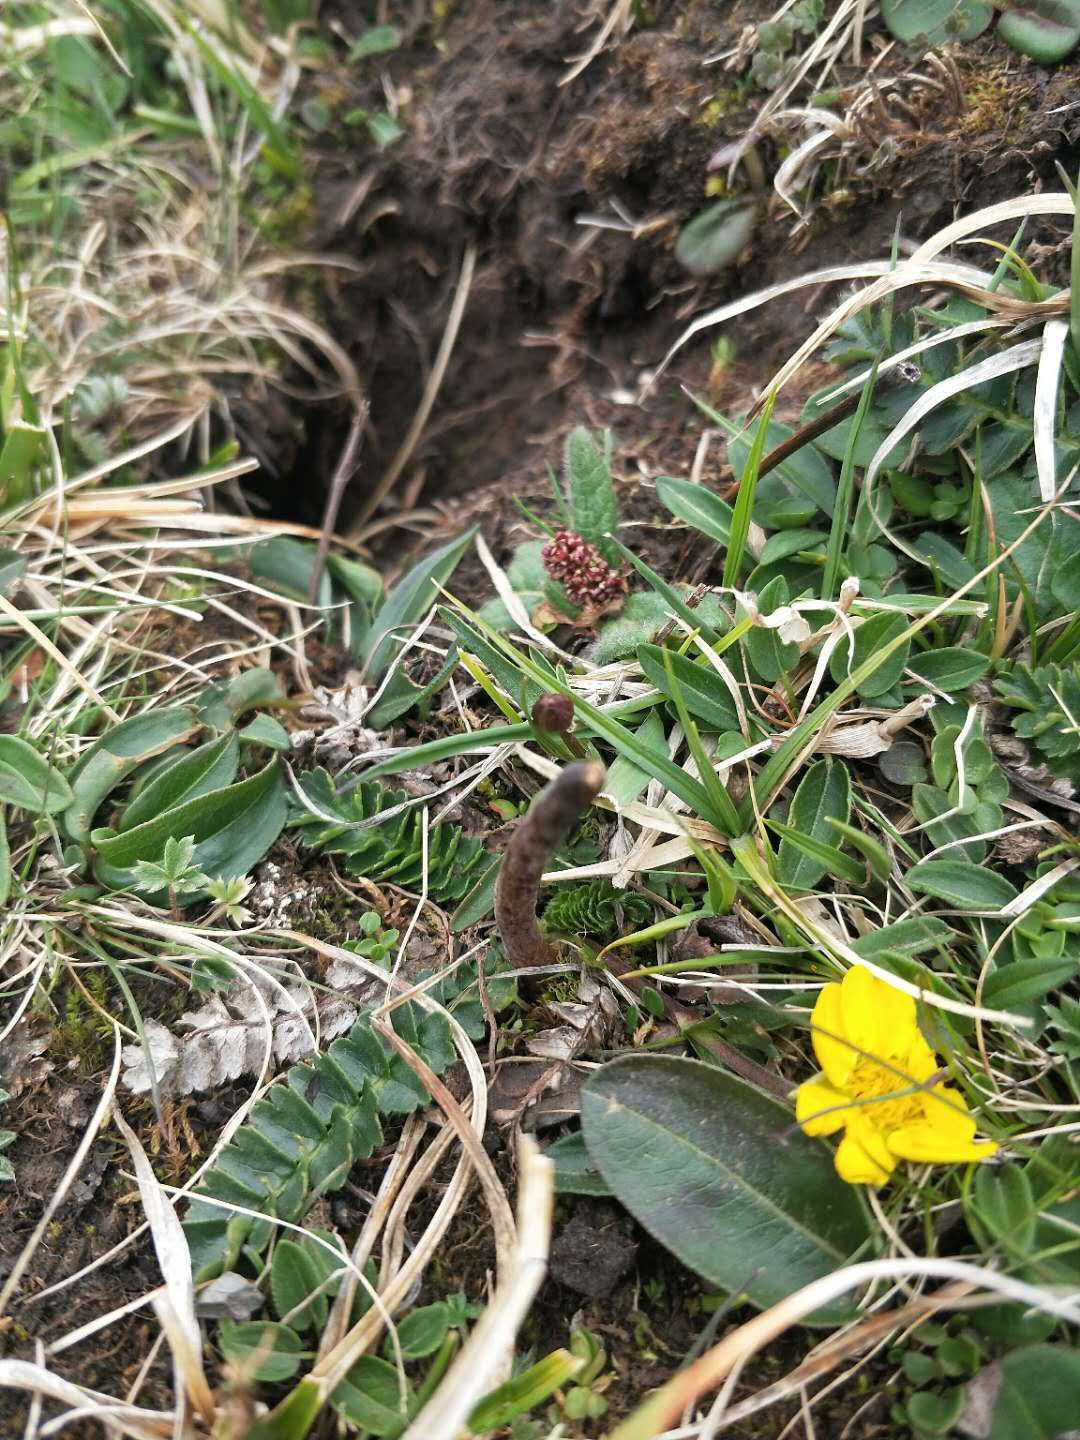cpf: (496, 754, 611, 975)
